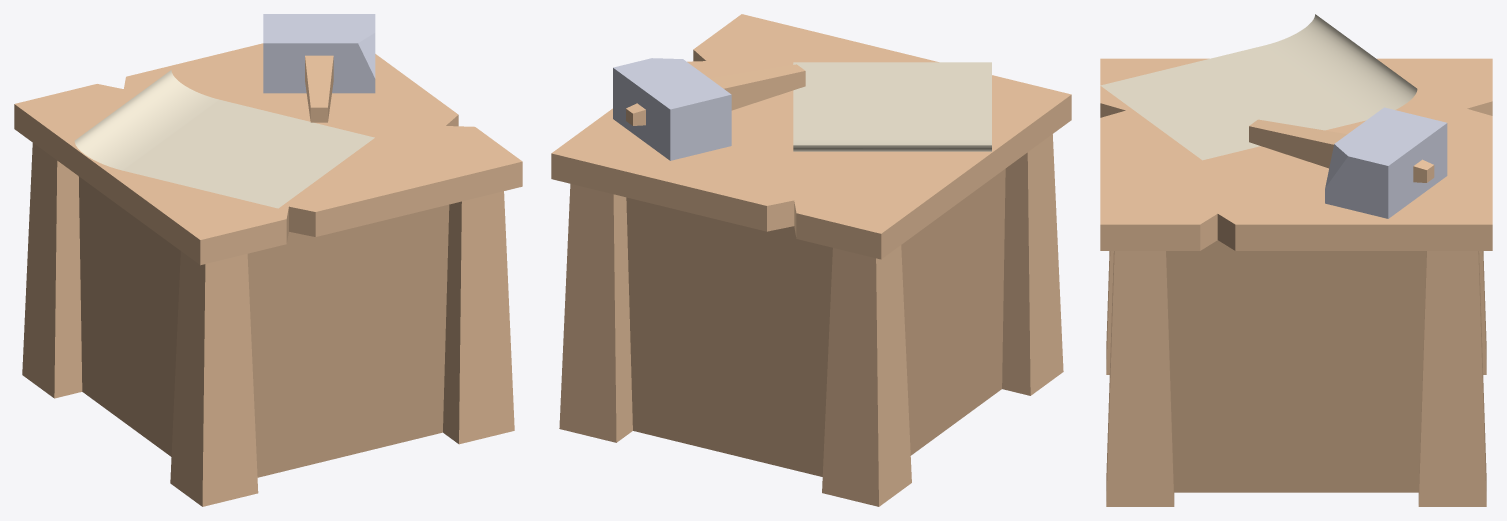
Rendered from workbench.glb.
The picture shows the model from 3 angles, left to right: view 1: azimuth 30°, elevation 25°; view 2: azimuth 150°, elevation 25°; view 3: azimuth 270°, elevation 25°; orthographic projection. The views are drawn at different scales.
Parts seen in each view (by area): view 1: workbench, paper, hammer; view 2: workbench, paper, hammer; view 3: workbench, paper, hammer.
Boxes of the visible parts, x1,y1,x2,y2 form: workbench: (14,43,522,506); paper: (74,70,374,208); hammer: (263,14,375,122); workbench: (551,14,1071,506); paper: (793,62,991,151); hammer: (613,58,805,160); workbench: (1100,58,1492,506); paper: (1100,14,1417,160); hammer: (1249,107,1447,218).
Size of the model in its own units: 1.16 by 1.02 by 1.08.
